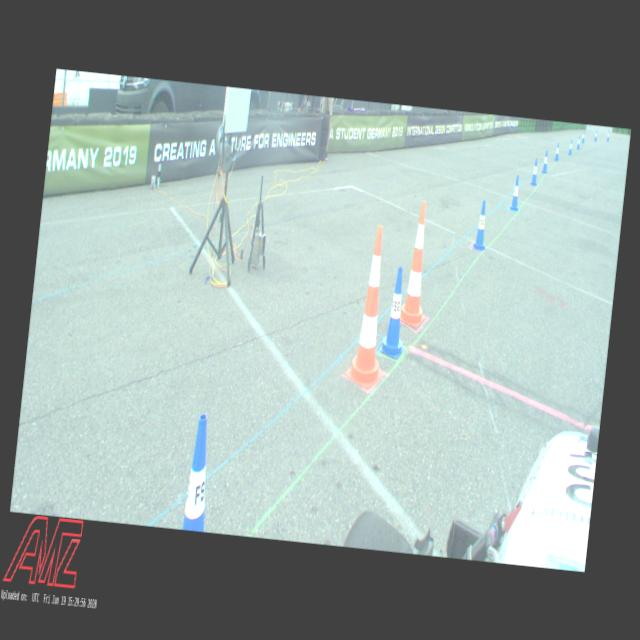blue_cone: (182, 412, 216, 532), (378, 265, 412, 360), (472, 200, 491, 250), (509, 174, 522, 210), (530, 157, 538, 185), (541, 150, 549, 173), (554, 143, 560, 161), (568, 138, 572, 154), (576, 135, 580, 149), (581, 131, 585, 143), (594, 130, 598, 142), (606, 130, 610, 141)
large_orange_cone: (344, 223, 397, 389), (398, 200, 436, 328)
